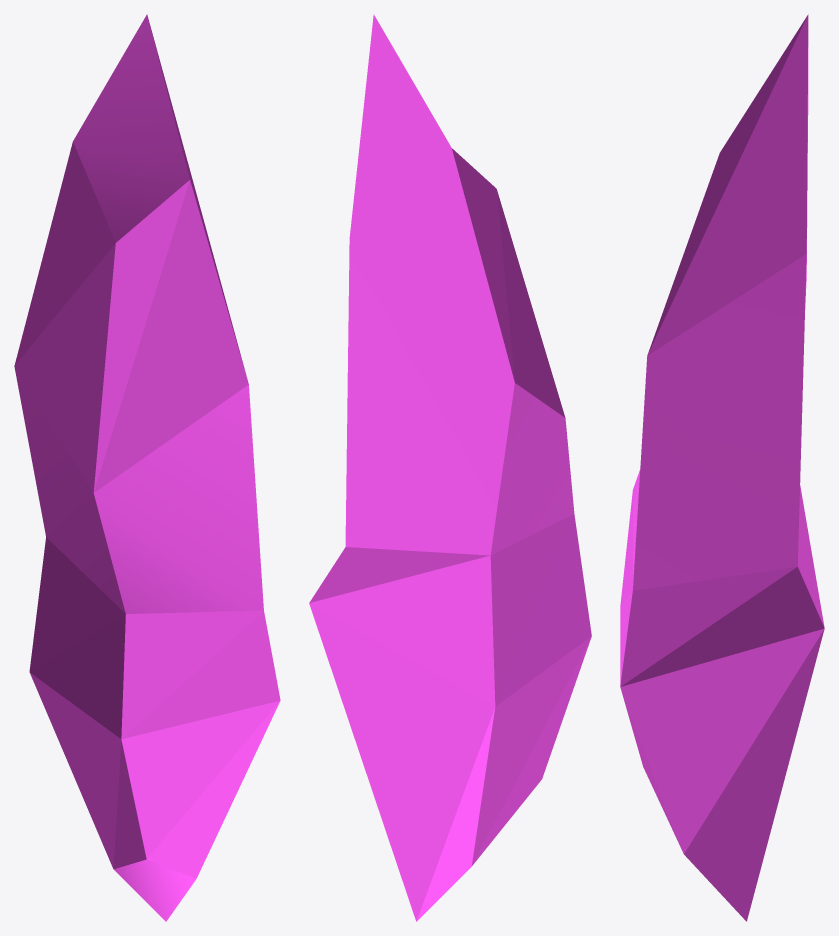
Rendered from songbird_diamond_shard01.glb.
3 views of the same model, side by side, from view 1: azimuth 30°, elevation 25°; view 2: azimuth 150°, elevation 25°; view 3: azimuth 270°, elevation 25° (orthographic). The views are drawn at different scales.
Visible parts, largest first — view 1: songbird_diamond_shard01_0; view 2: songbird_diamond_shard01_0; view 3: songbird_diamond_shard01_0.
Boxes of the visible parts, <box> form: songbird_diamond_shard01_0: <box>14,14,280,921</box>; songbird_diamond_shard01_0: <box>309,14,591,921</box>; songbird_diamond_shard01_0: <box>620,14,824,921</box>.
Size of the model in its own units: 4.64 by 20.91 by 4.24.
Materials: 1 (1 with a texture image).
